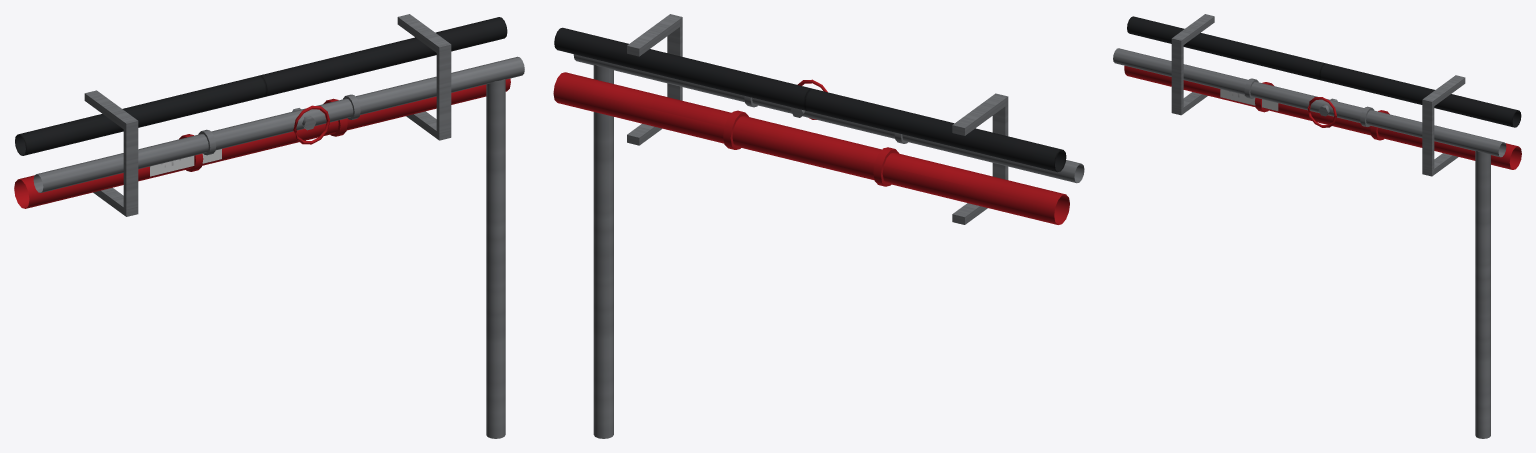
File: SM_LFD_PipeRun_4m.fbx
3 renders of one model, left to right at view 1: azimuth 30°, elevation 25°; view 2: azimuth 150°, elevation 25°; view 3: azimuth 330°, elevation 25°, orthographic. The views are drawn at different scales.
Parts seen in each view (by area): view 1: SM_LFD_PipeRun_4m_LOD0; view 2: SM_LFD_PipeRun_4m_LOD0; view 3: SM_LFD_PipeRun_4m_LOD0.
Part boxes in pixels (box(x1,y1,x2,y2)): SM_LFD_PipeRun_4m_LOD0: box(14, 14, 524, 438); SM_LFD_PipeRun_4m_LOD0: box(553, 14, 1084, 438); SM_LFD_PipeRun_4m_LOD0: box(1113, 14, 1521, 438).
Size of what is drawn, in the model's own units: 4 by 3.26 by 0.6.
